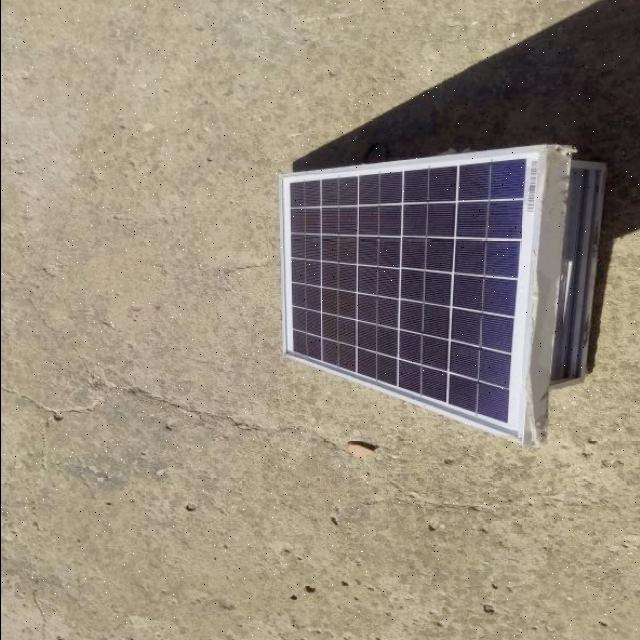Normal Solar Panel: (280, 147, 542, 443)
